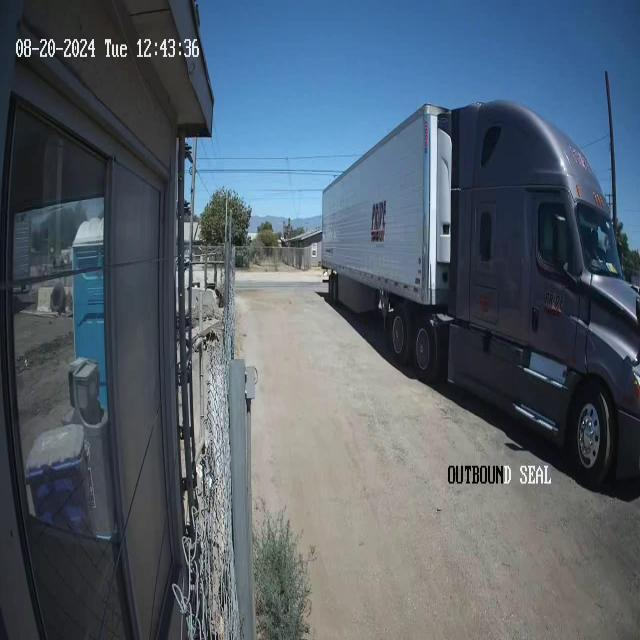TRUCK_CONTAINER: (321, 97, 639, 491)
